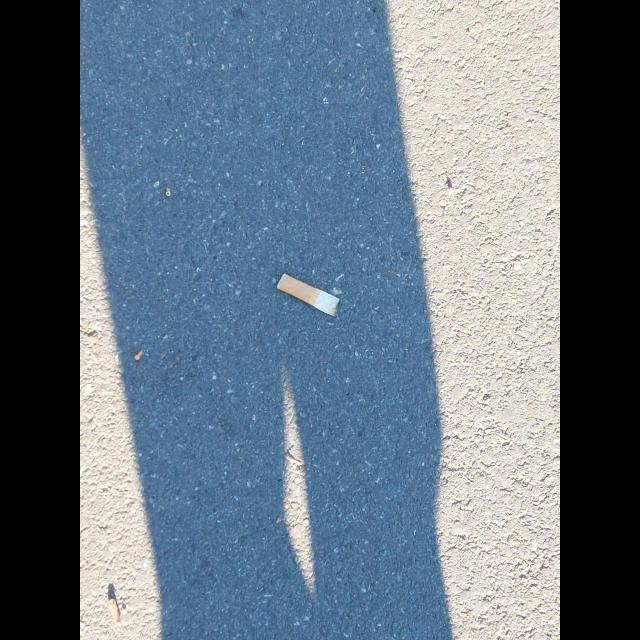cigarette: (278, 273, 340, 317)
